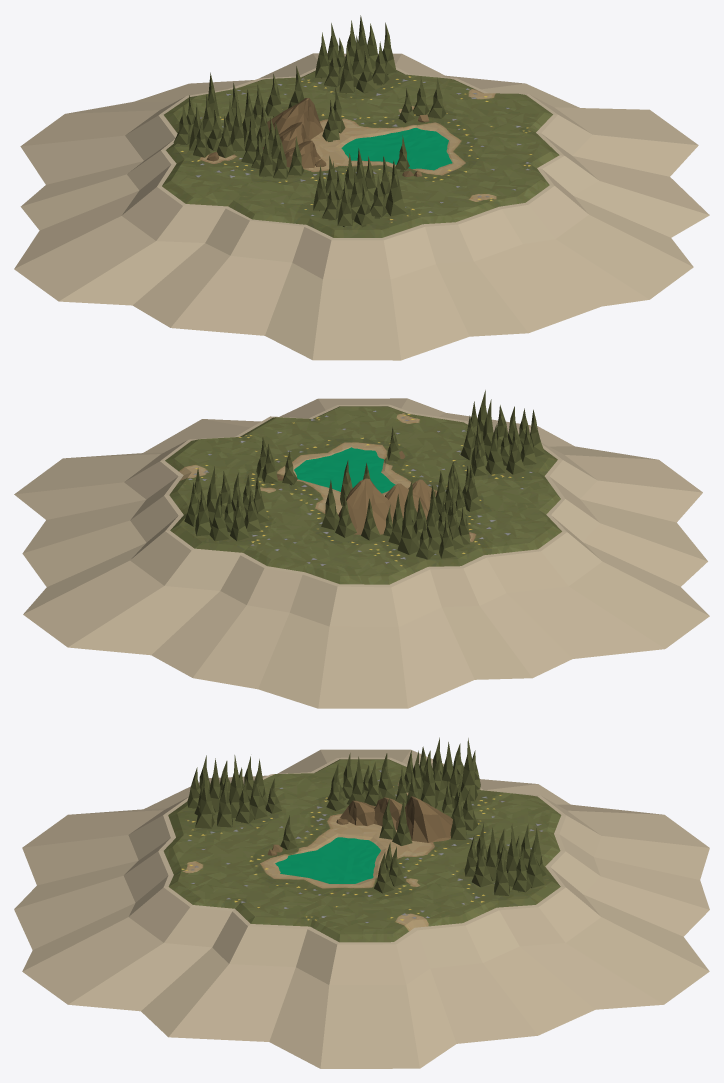
Rendered from hexForestLake01.fbx.
The picture shows the model from 3 angles, top to bottom: view 1: azimuth 30°, elevation 25°; view 2: azimuth 150°, elevation 25°; view 3: azimuth 270°, elevation 25°; orthographic projection. The views are drawn at different scales.
Parts seen in each view (by area): view 1: hexForestLake01, forestLake; view 2: hexForestLake01, forestLake; view 3: hexForestLake01, forestLake.
Part boxes in pixels (left/top/right/bottom): hexForestLake01: left=14, top=15, right=709, bottom=360; forestLake: left=341, top=128, right=452, bottom=170; hexForestLake01: left=14, top=390, right=709, bottom=708; forestLake: left=294, top=447, right=395, bottom=493; hexForestLake01: left=14, top=737, right=709, bottom=1068; forestLake: left=275, top=837, right=380, bottom=883.
Size of the model in its own units: 26.92 by 4.89 by 24.8.
3 materials, 3 textured.
